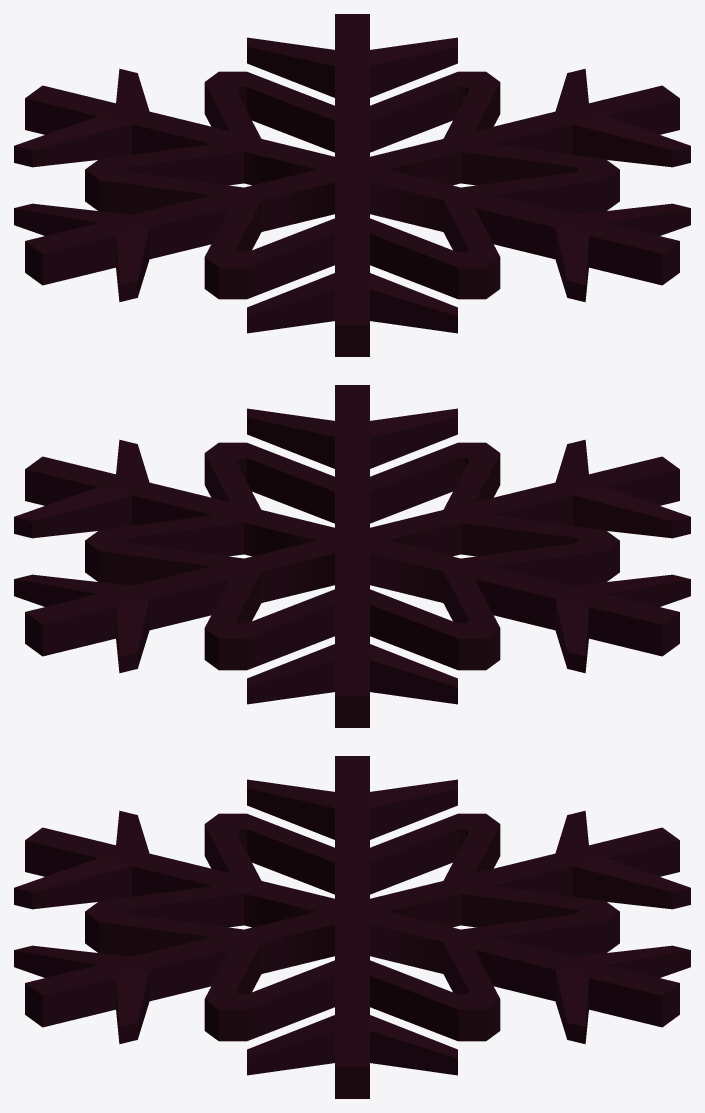
File: snowflake1.fbx
The picture shows the model from 3 angles, top to bottom: view 1: azimuth 30°, elevation 25°; view 2: azimuth 150°, elevation 25°; view 3: azimuth 270°, elevation 25°; orthographic projection.
Visible parts, largest first — view 1: Box002; view 2: Box002; view 3: Box002.
Boxes of the visible parts, x1,y1,x2,y2 form: Box002: [14, 14, 690, 356]; Box002: [14, 385, 690, 727]; Box002: [14, 756, 690, 1098].
Bounding box in the file's own units: 420 × 20 × 386.
